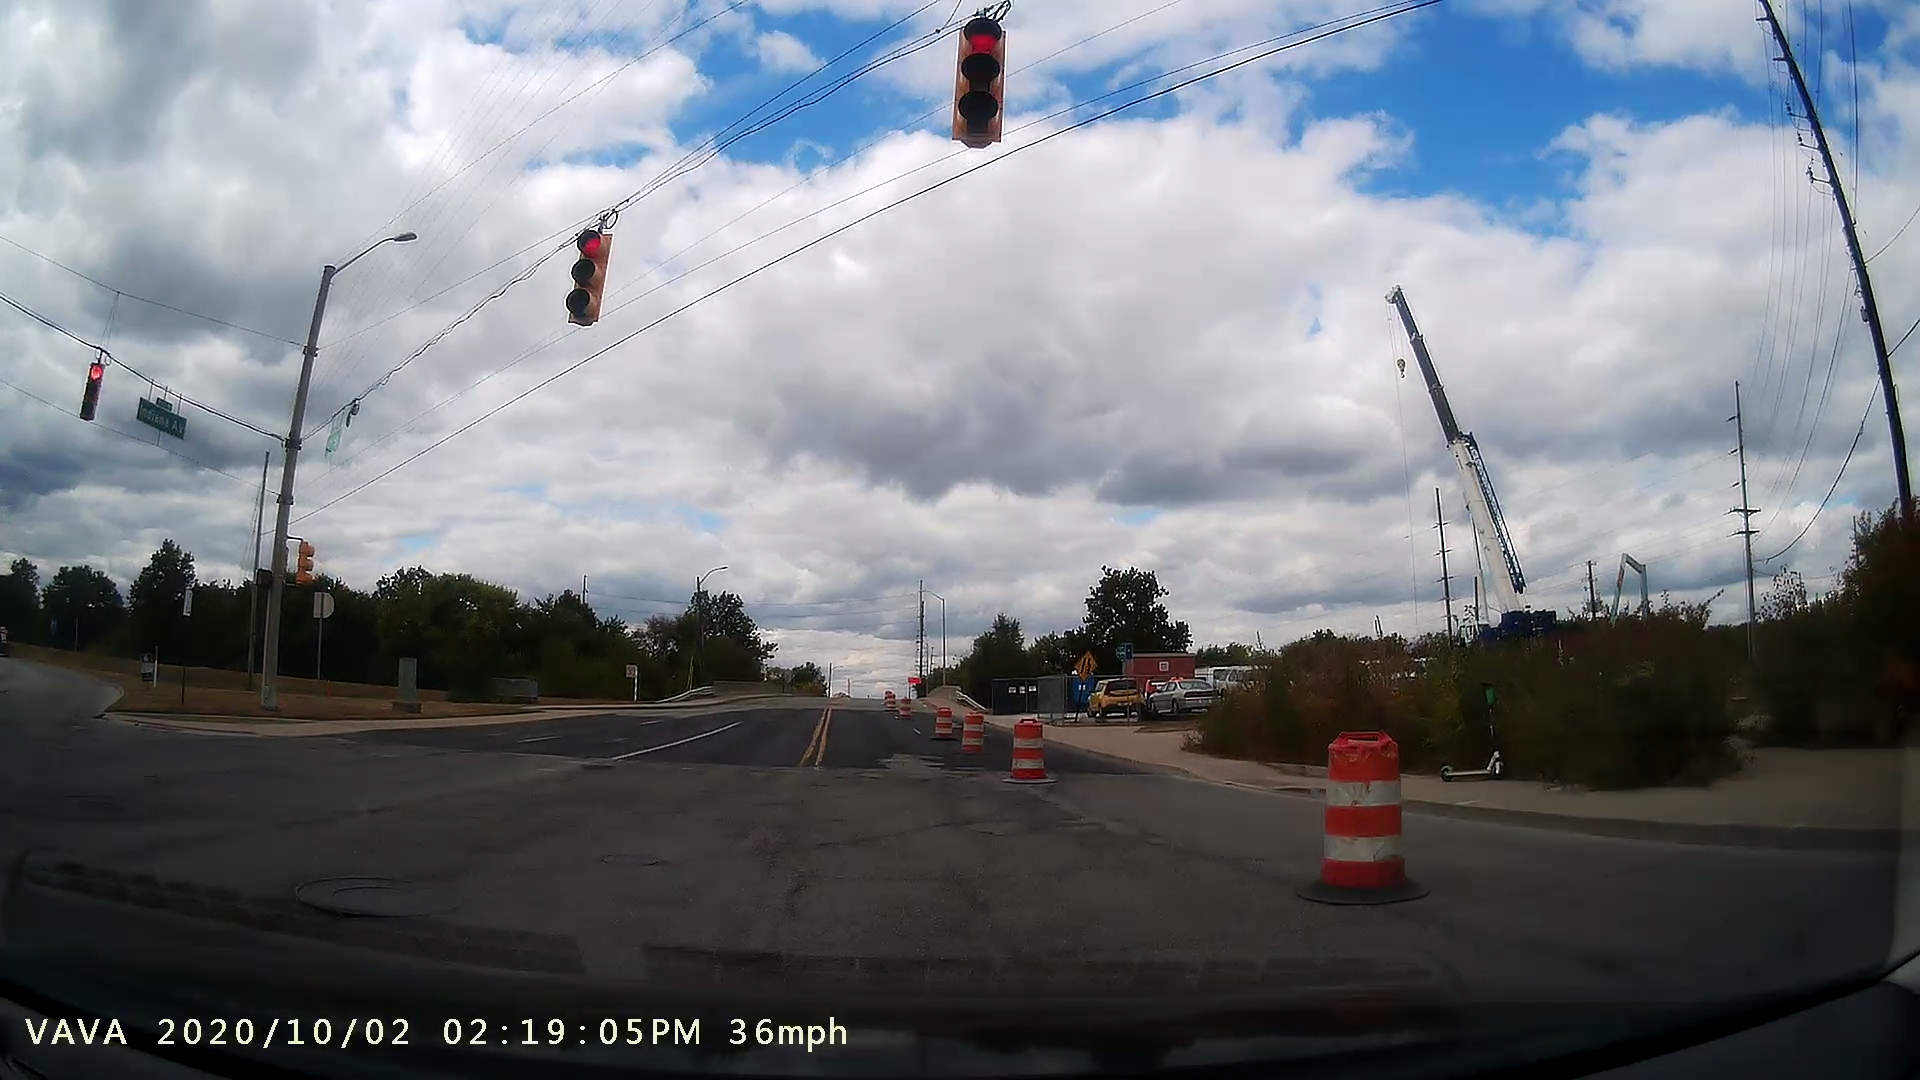const_barrel: (1276, 704, 1447, 927), (996, 699, 1064, 793), (952, 694, 996, 764)
